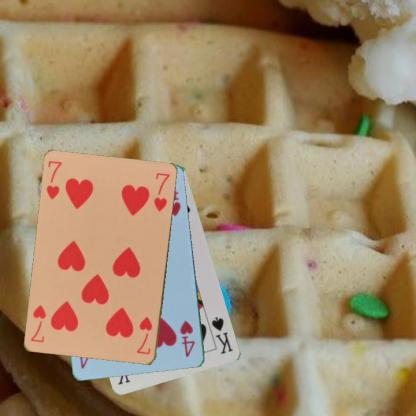4h: (178, 318, 196, 359)
7h: (134, 314, 154, 356), (44, 158, 63, 202)
Ks: (209, 314, 235, 356)
